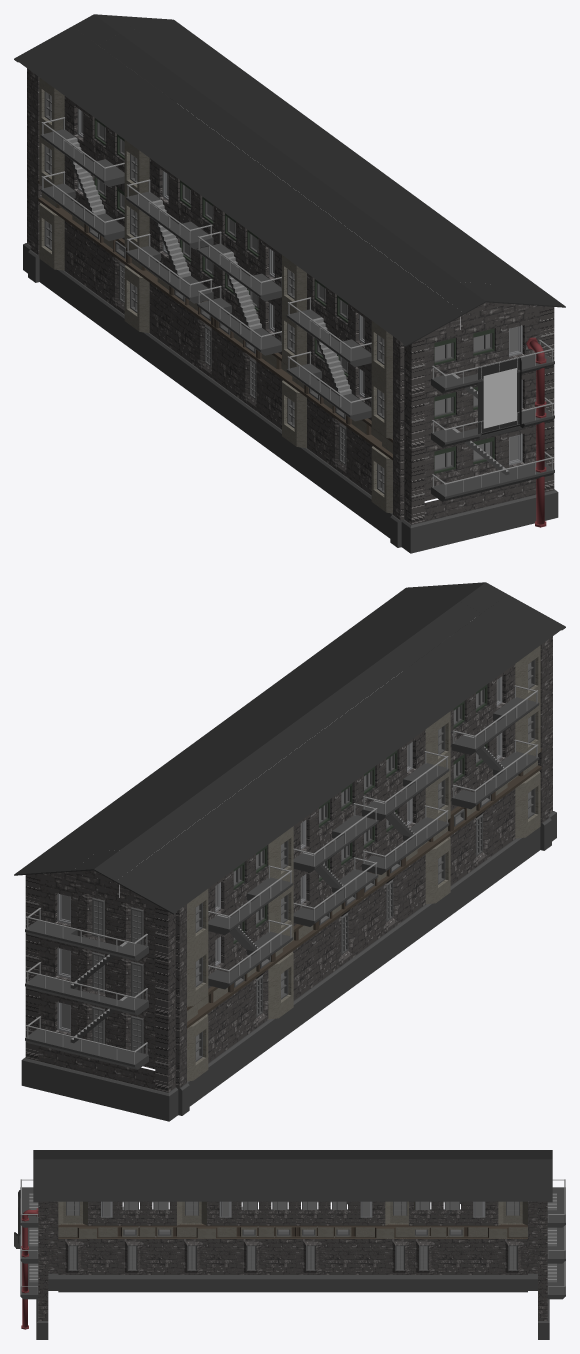
File: BLOCK3.1.fbx
3 views of the same model, one above another, from view 1: azimuth 30°, elevation 25°; view 2: azimuth 150°, elevation 25°; view 3: azimuth 270°, elevation 25° (orthographic). The views are drawn at different scales.
Visible parts, largest first — view 1: Plane.1549, Plane.1248, Plane.1512, Plane.1449, Plane.1205, Plane.1545, Plane.1235, Plane.1484, Plane.1391, Plane.1405, Plane.1339, Plane.1321 (+114 smaller); view 2: Plane.1204, Plane.1403, Plane.1233, Plane.1383, Plane.1391, Plane.1384, Plane.1484, Plane.1405, Plane.1545, Plane.1205, Plane.1449, Plane.1235 (+110 smaller); view 3: Plane.1151, Plane.1190, Plane.1191, Plane.1442, Plane.1498, Plane.1499, Plane.1144, Plane.1156, Plane.1188, Plane.1189, Plane.1437, Plane.1443 (+99 smaller).
Boxes of the visible parts, x1,y1,x2,y2 form: Plane.1549: (478, 357, 524, 438); Plane.1248: (431, 451, 554, 501); Plane.1512: (126, 233, 213, 303); Plane.1449: (197, 285, 281, 355); Plane.1205: (286, 351, 371, 421); Plane.1545: (126, 179, 213, 249); Plane.1235: (40, 171, 124, 241); Plane.1484: (197, 231, 281, 301); Plane.1391: (286, 297, 371, 366); Plane.1405: (40, 117, 124, 186); Plane.1339: (380, 302, 449, 346); Plane.1321: (14, 34, 83, 77); Plane.1204: (25, 1016, 148, 1069); Plane.1403: (25, 907, 148, 961); Plane.1233: (25, 962, 148, 1015); Plane.1383: (77, 888, 116, 944); Plane.1391: (451, 685, 539, 754); Plane.1384: (116, 897, 155, 960); Plane.1484: (362, 751, 449, 820); Plane.1405: (208, 865, 293, 934); Plane.1545: (293, 803, 378, 872); Plane.1205: (451, 739, 539, 809); Plane.1449: (362, 805, 449, 874); Plane.1235: (208, 919, 293, 989); Plane.1151: (117, 1239, 147, 1274); Plane.1190: (438, 1239, 468, 1274); Plane.1191: (468, 1239, 498, 1274); Plane.1442: (236, 1239, 266, 1274); Plane.1498: (325, 1239, 355, 1274); Plane.1499: (355, 1239, 385, 1274); Plane.1144: (58, 1239, 87, 1274); Plane.1156: (498, 1239, 527, 1274); Plane.1188: (147, 1239, 176, 1274); Plane.1189: (88, 1239, 117, 1274); Plane.1437: (177, 1239, 206, 1274); Plane.1443: (266, 1239, 295, 1274).
Bounding box in the file's own units: 1345 × 1742 × 5570.
